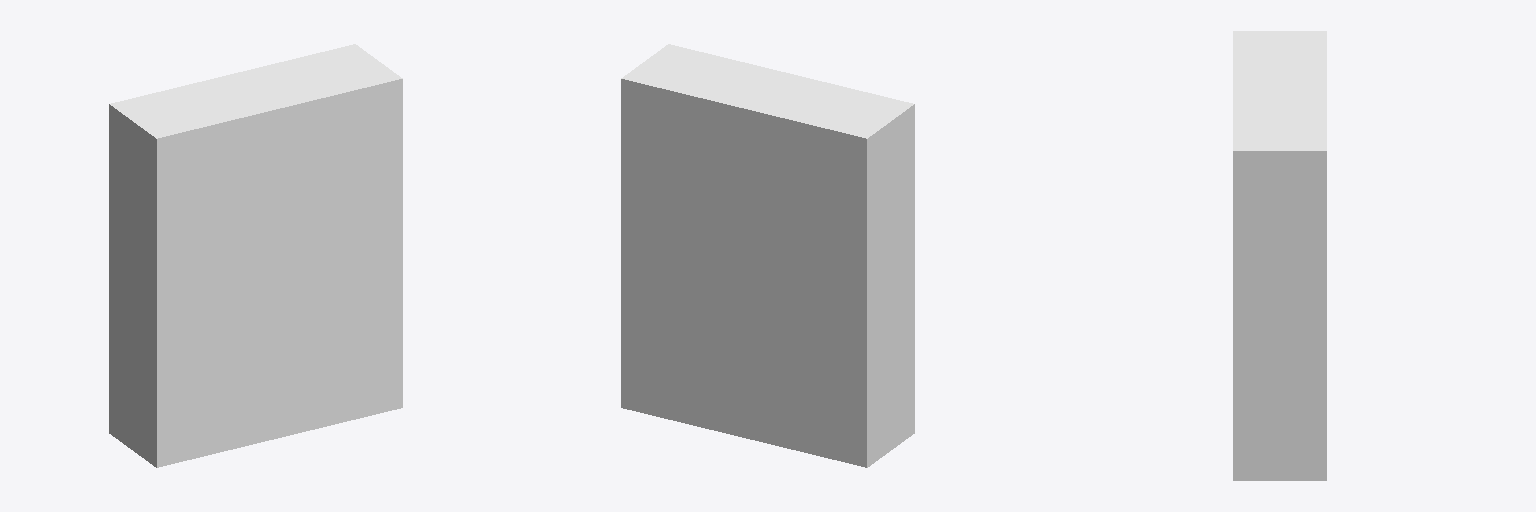
Rendered from Electricbox.obj.
The picture shows the model from 3 angles: view 1: azimuth 30°, elevation 25°; view 2: azimuth 150°, elevation 25°; view 3: azimuth 270°, elevation 25°; orthographic projection.
Visible parts, largest first — view 1: object 1; view 2: object 1; view 3: object 1.
Boxes of the visible parts, <box> form: object 1: <box>109,44,402,467</box>; object 1: <box>621,44,914,467</box>; object 1: <box>1233,31,1326,480</box>.
Size of the model in its own units: 1.8 by 2.3 by 0.6.